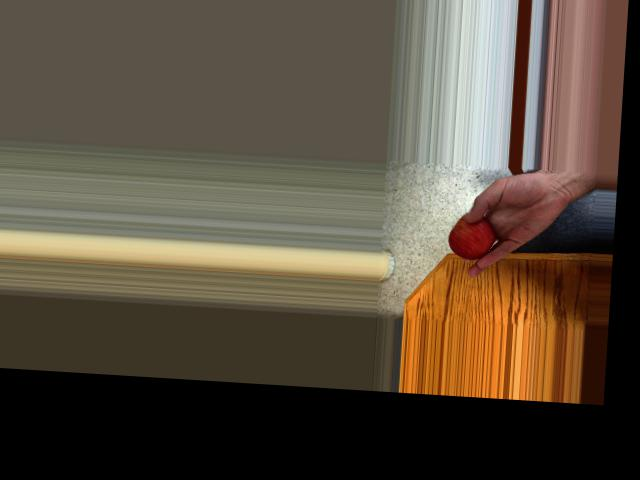apple: (447, 208, 501, 260)
